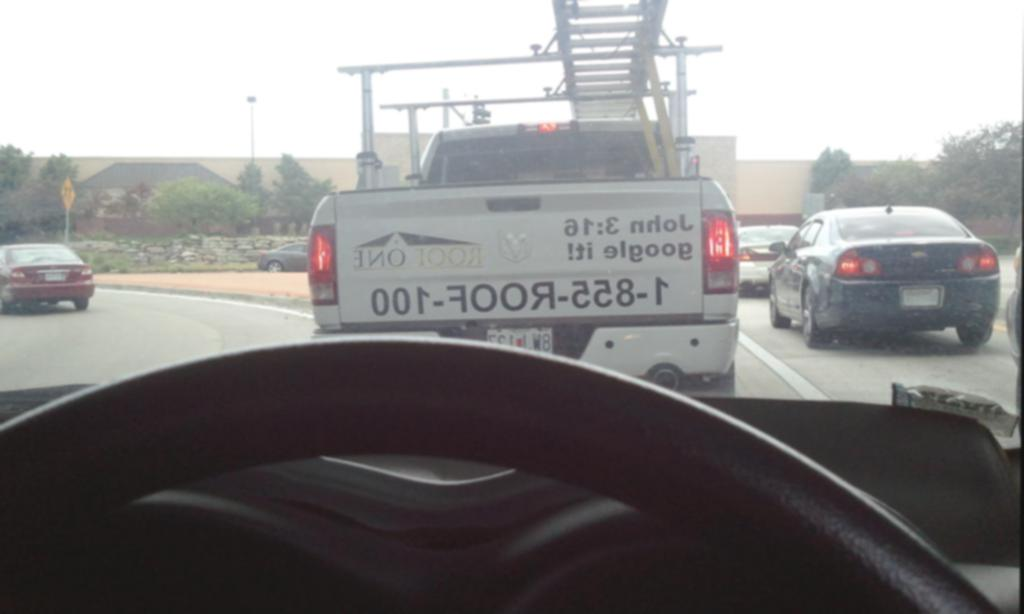License_Plate: (486, 329, 554, 354), (902, 287, 941, 308), (45, 272, 66, 284)
